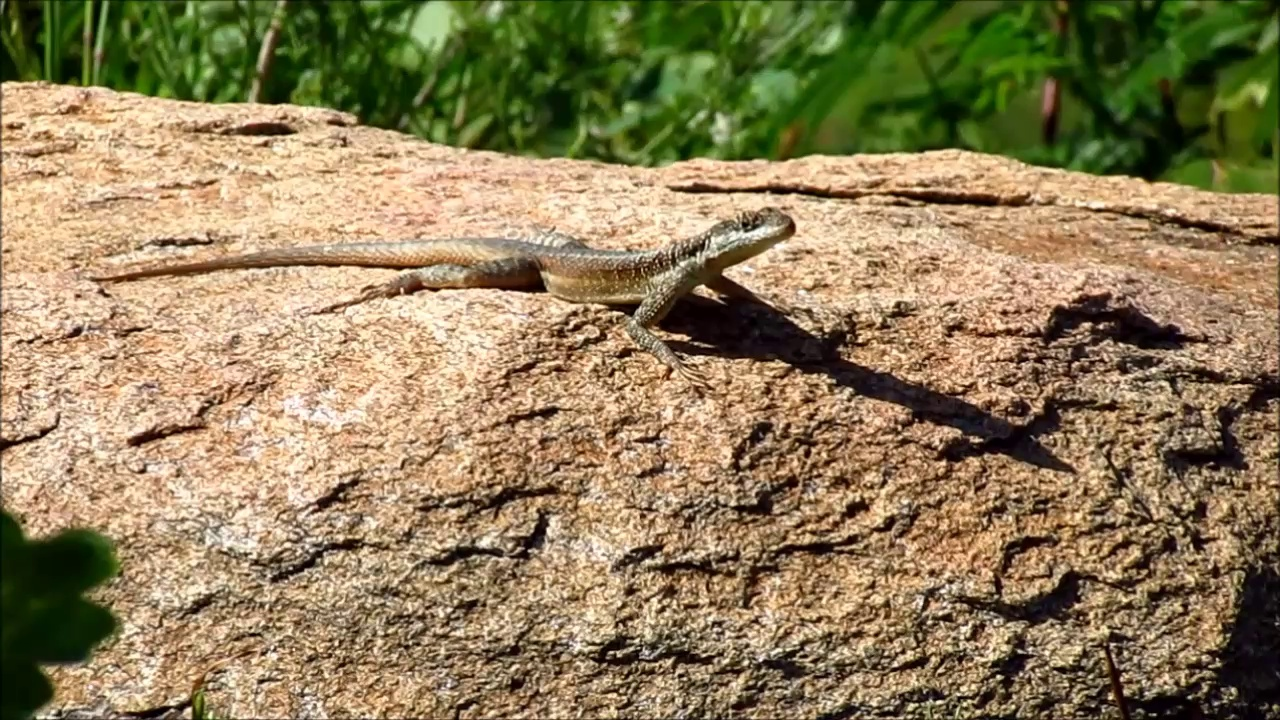body: (83, 226, 714, 397)
head: (703, 206, 796, 266)
